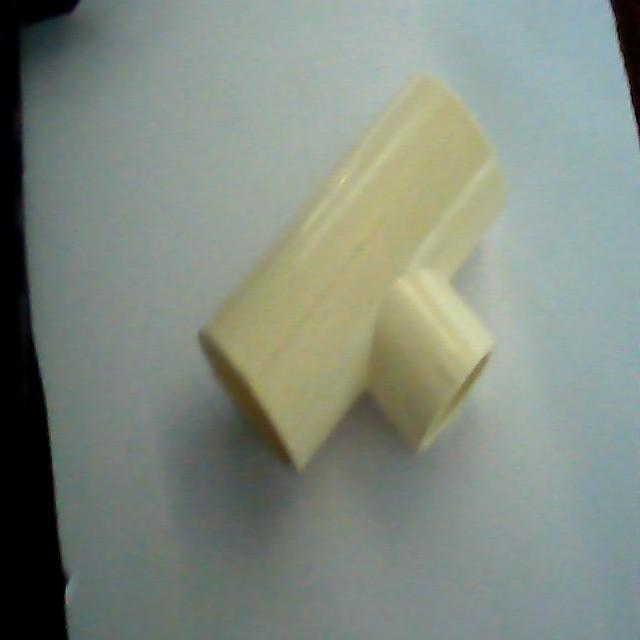T Joint: (197, 73, 508, 473)
